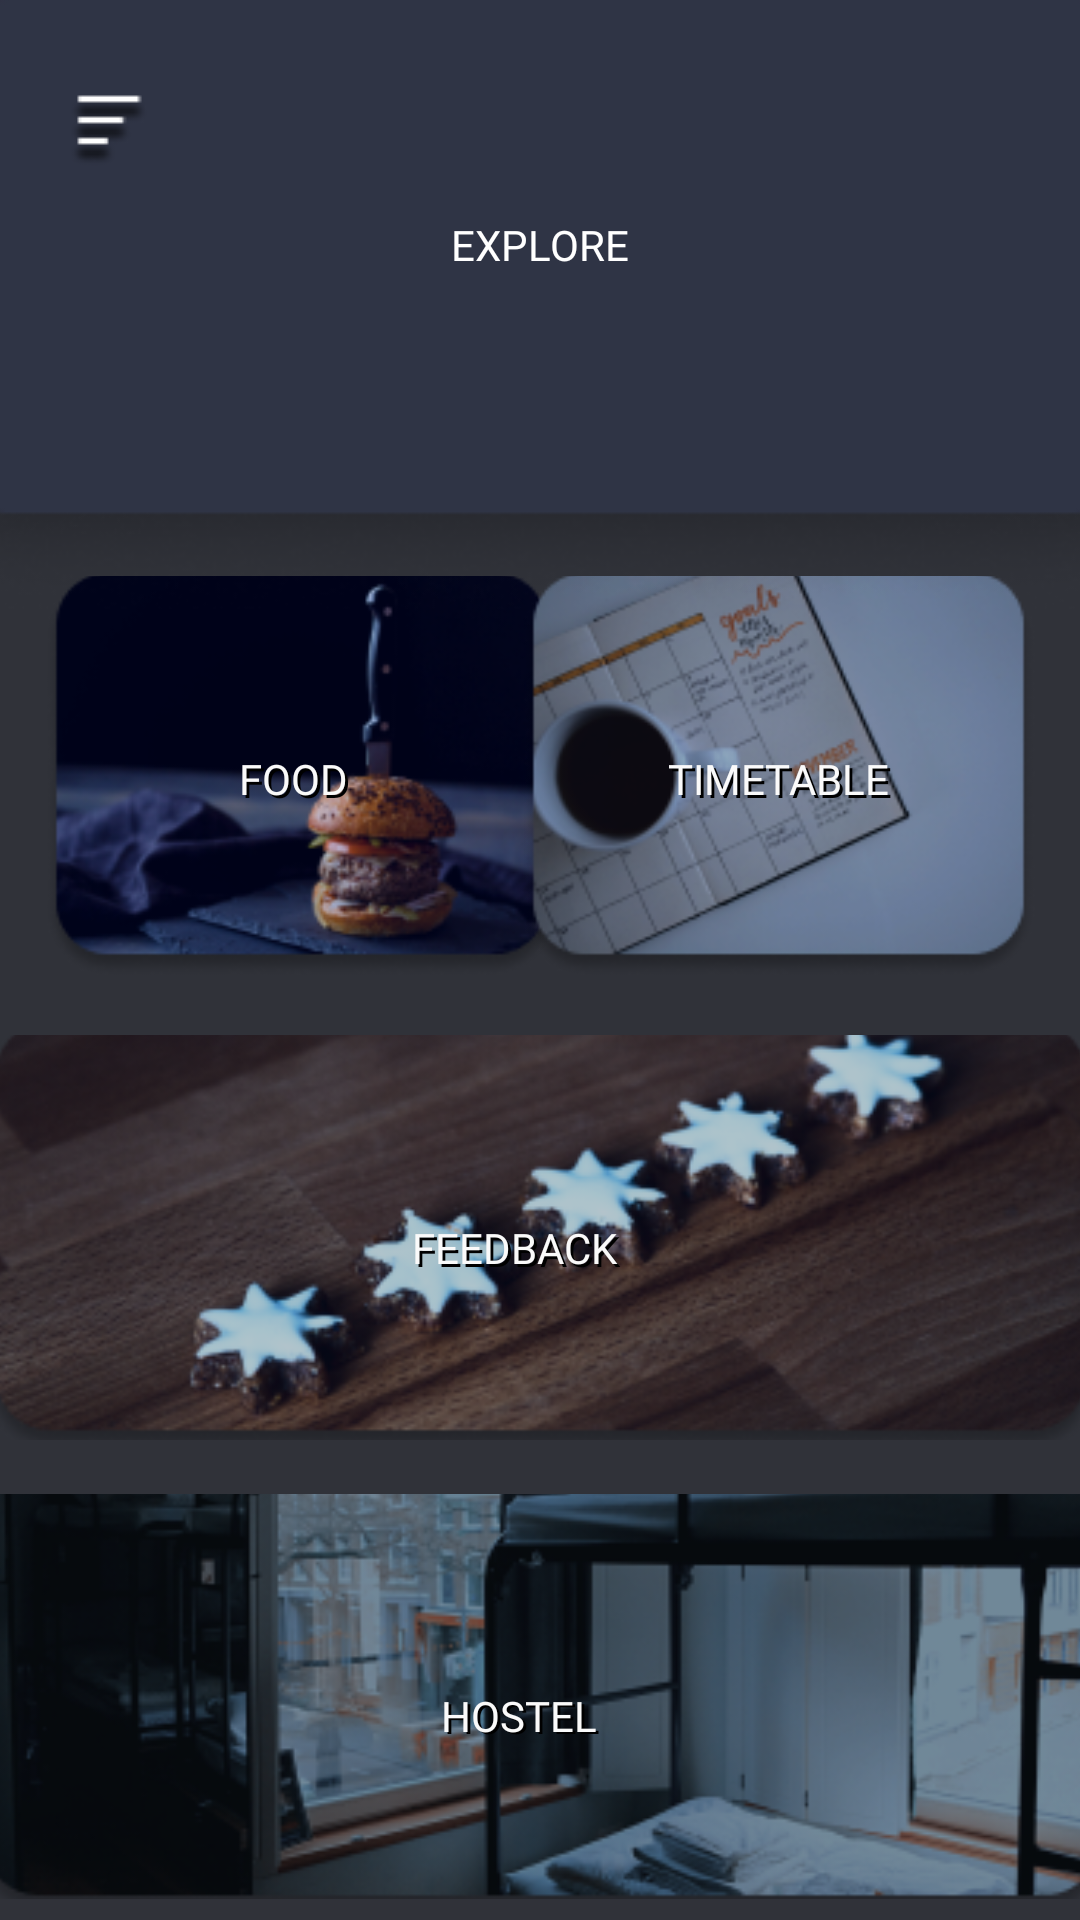

Icons on this 1080×1920 Android screen, each with the point to tap as [x,y]:
sort: [109,126]
